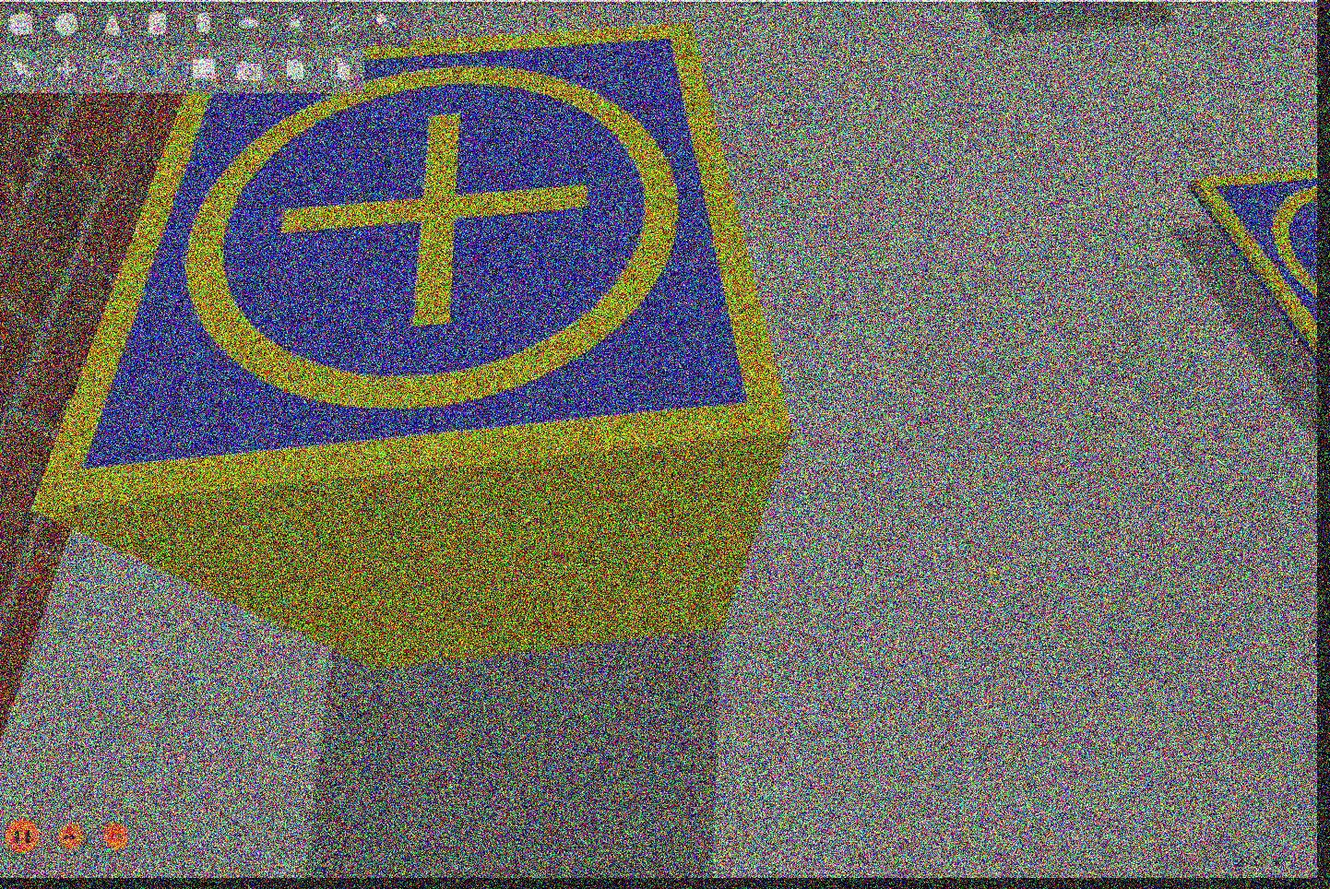small_base: (35, 11, 797, 530), (1188, 166, 1330, 360)
